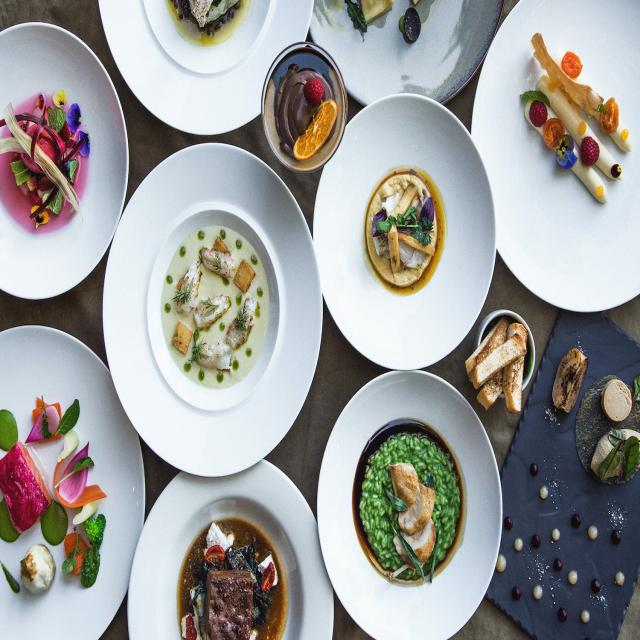bit tet: (141, 469, 322, 640)
ca hoi ap chao: (1, 332, 131, 638)
khoai tay nghien: (364, 146, 447, 310)
sup: (123, 164, 321, 456)
uc ga: (322, 370, 500, 637)
